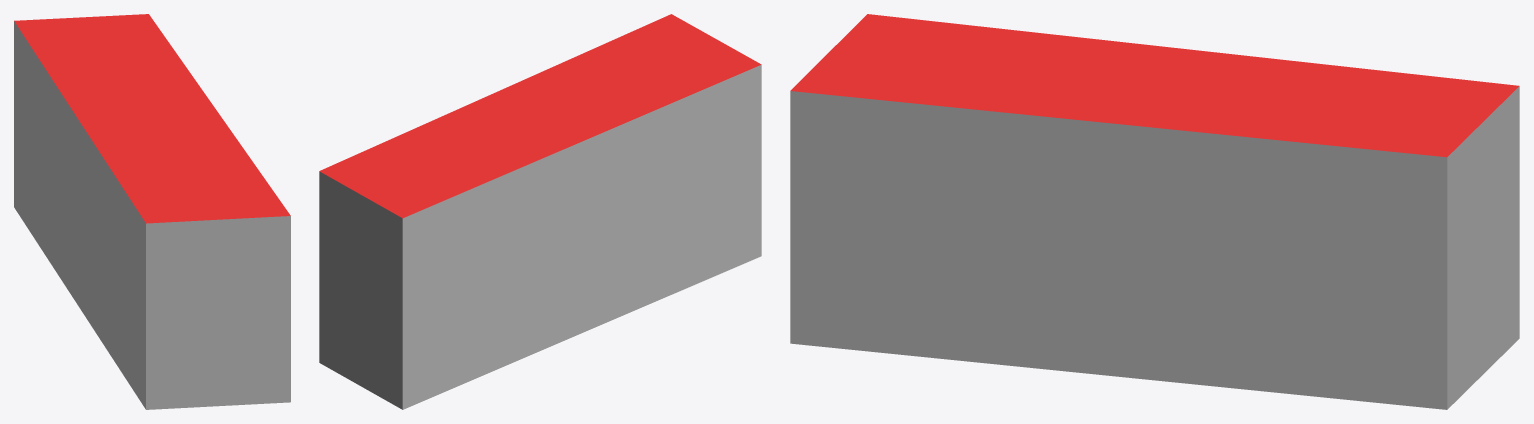
Rendered from DEBY_LOD2_42364669.dae.
3 renders of one model, left to right at view 1: azimuth 30°, elevation 25°; view 2: azimuth 150°, elevation 25°; view 3: azimuth 270°, elevation 25°, orthographic. The views are drawn at different scales.
Bounding box in the file's own units: 3.65 × 7.85 × 3.
